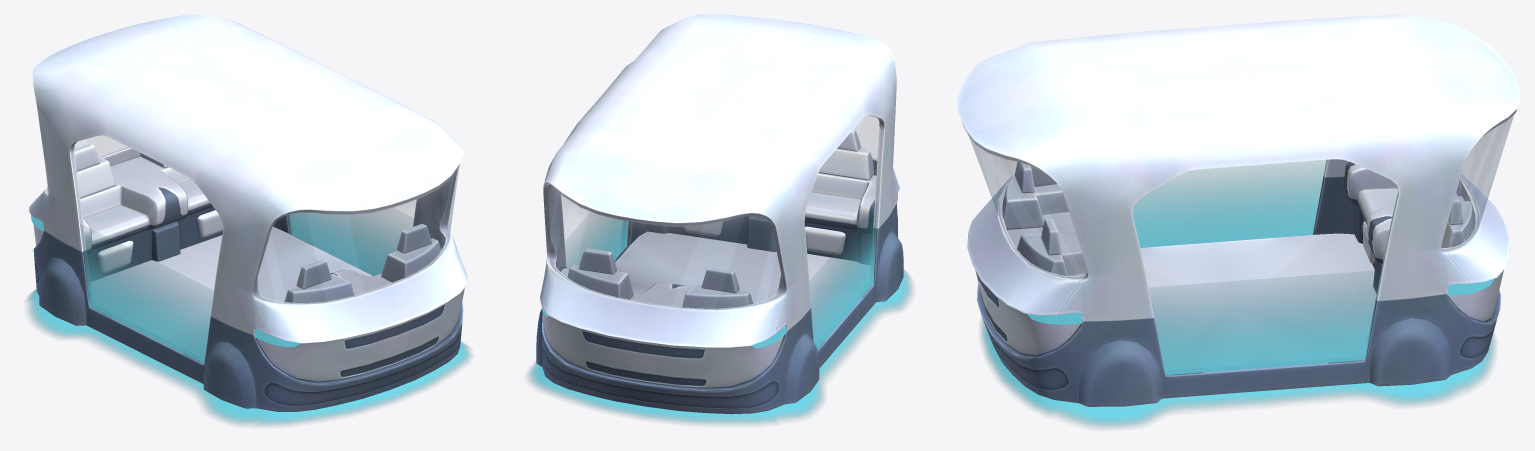
The model's file is obj_shuttle04.gltf.
The picture shows the model from 3 angles, left to right: view 1: azimuth 30°, elevation 25°; view 2: azimuth 150°, elevation 25°; view 3: azimuth 270°, elevation 25°; orthographic projection. The views are drawn at different scales.
Visible parts, largest first — view 1: obj_shuttle04_mesh, obj_shuttle04_shield02, obj_shuttle04_shield01; view 2: obj_shuttle04_mesh, obj_shuttle04_shield02, obj_shuttle04_shield01; view 3: obj_shuttle04_mesh, obj_shuttle04_shield01, obj_shuttle04_shield02.
Boxes of the visible parts, x1,y1,x2,y2 form: obj_shuttle04_mesh: [26, 14, 471, 425]; obj_shuttle04_shield02: [81, 226, 213, 363]; obj_shuttle04_shield01: [289, 212, 412, 275]; obj_shuttle04_mesh: [527, 14, 912, 424]; obj_shuttle04_shield02: [810, 202, 877, 349]; obj_shuttle04_shield01: [566, 215, 628, 267]; obj_shuttle04_mesh: [957, 14, 1520, 428]; obj_shuttle04_shield01: [1149, 272, 1381, 375]; obj_shuttle04_shield02: [1132, 160, 1326, 247].
Size of what is drawn, in the model's own units: 4.58 by 3.22 by 5.99.
3 materials, 3 textured.
